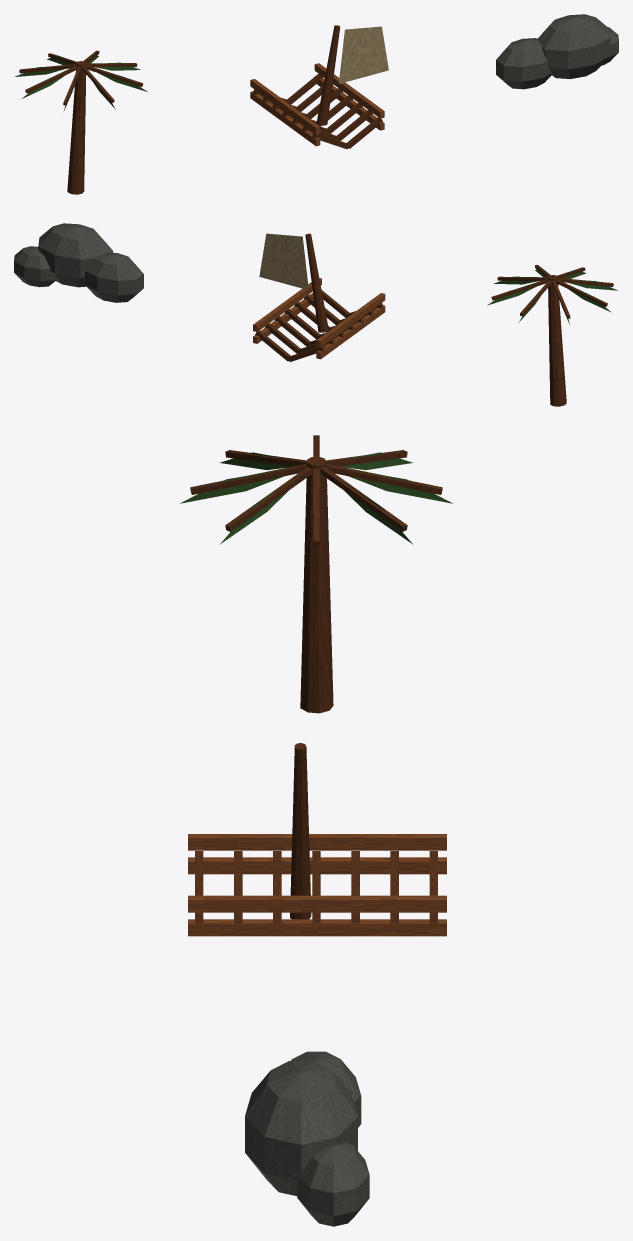
Rendered from KIT_driftwood_beach.gltf.
3 views of the same model, one above another, from view 1: azimuth 30°, elevation 25°; view 2: azimuth 150°, elevation 25°; view 3: azimuth 270°, elevation 25° (orthographic). The views are drawn at different scales.
Visible parts, largest first — view 1: 02_wreck, 03_rock, 01_palm; view 2: 02_wreck, 03_rock, 01_palm; view 3: 02_wreck, 03_rock, 01_palm.
Boxes of the visible parts, x1,y1,x2,y2 form: 02_wreck: (250,25,388,149); 03_rock: (496,14,618,89); 01_palm: (15,50,147,194); 02_wreck: (253,233,385,361); 03_rock: (14,223,143,302); 01_palm: (487,264,617,406); 02_wreck: (188,743,446,936); 03_rock: (245,1051,369,1226); 01_palm: (180,435,452,713).
Size of the model in its own units: 13.66 by 2.88 by 2.74.
Materials: 6 (6 with a texture image).
